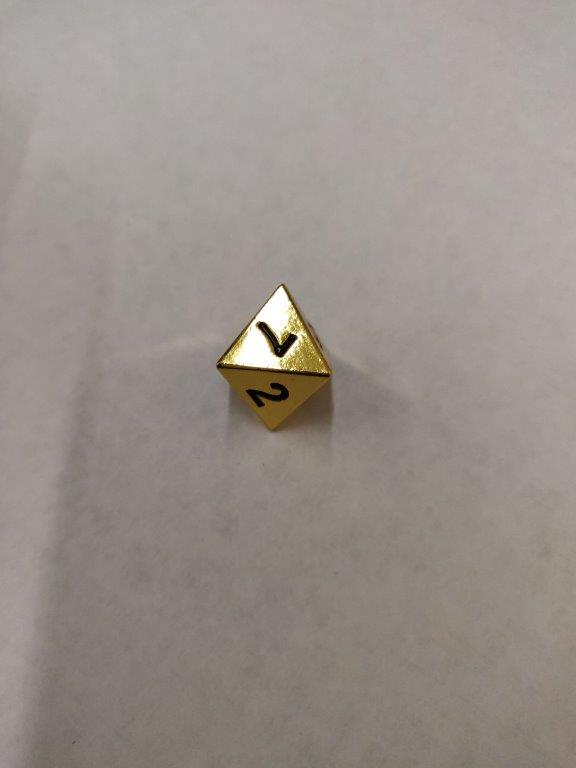d8-7: (217, 287, 331, 431)
